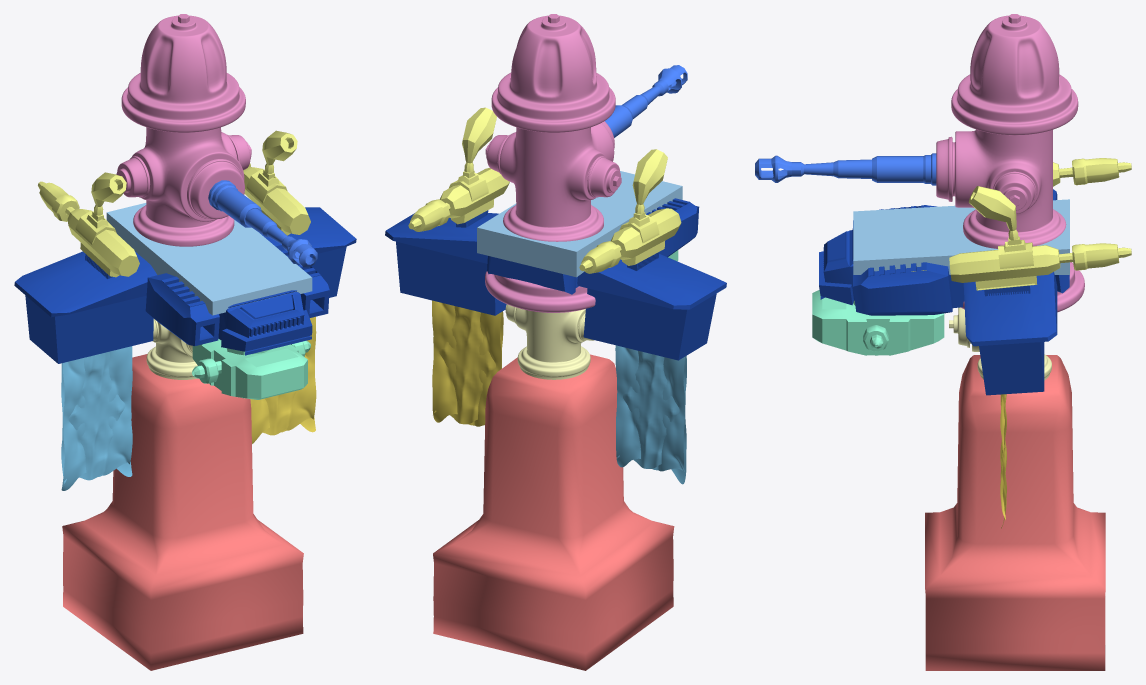
Rendered from WaterLaser.fbx.
3 views of the same model, side by side, from view 1: azimuth 30°, elevation 25°; view 2: azimuth 150°, elevation 25°; view 3: azimuth 270°, elevation 25° (orthographic). The views are drawn at different scales.
Parts seen in each view (by area): view 1: Cube.006, Mech_F_432, hydrant.002, Cube.007, Mech_F_432.001, Mech_F_432.002, Plane.001, Plane.005, Gun.002, Plane.002, hydrant, Plane.006; view 2: Cube.006, hydrant.002, Mech_F_432, Mech_F_432.001, Cube.007, hydrant, Plane.005, Plane.001, Plane.006, Plane.002, Gun.002; view 3: Cube.006, hydrant.002, Mech_F_432, Mech_F_432.001, Cube.007, Mech_F_432.002, Gun.002, hydrant.
Part boxes in pixels (left/top/right/bottom): Cube.006: left=62, top=354, right=303, bottom=670; Mech_F_432: left=14, top=207, right=356, bottom=363; hydrant.002: left=116, top=14, right=251, bottom=246; Cube.007: left=106, top=203, right=312, bottom=315; Mech_F_432.001: left=38, top=130, right=310, bottom=277; Mech_F_432.002: left=192, top=339, right=310, bottom=399; Plane.001: left=61, top=346, right=132, bottom=490; Plane.005: left=61, top=351, right=132, bottom=483; Gun.002: left=208, top=180, right=317, bottom=267; Plane.002: left=250, top=316, right=316, bottom=443; hydrant: left=146, top=319, right=197, bottom=379; Plane.006: left=263, top=355, right=315, bottom=435; Cube.006: left=433, top=354, right=674, bottom=670; hydrant.002: left=485, top=14, right=621, bottom=312; Mech_F_432: left=385, top=198, right=726, bottom=360; Mech_F_432.001: left=408, top=107, right=681, bottom=273; Cube.007: left=477, top=171, right=682, bottom=277; hydrant: left=505, top=304, right=594, bottom=379; Plane.005: left=615, top=345, right=684, bottom=471; Plane.001: left=616, top=351, right=686, bottom=484; Plane.006: left=432, top=300, right=501, bottom=426; Plane.002: left=433, top=306, right=503, bottom=424; Gun.002: left=605, top=65, right=687, bottom=137; Cube.006: left=925, top=355, right=1105, bottom=670; hydrant.002: left=936, top=14, right=1084, bottom=312; Mech_F_432: left=819, top=189, right=1069, bottom=395; Mech_F_432.001: left=911, top=158, right=1131, bottom=290; Cube.007: left=853, top=199, right=1069, bottom=274; Mech_F_432.002: left=812, top=290, right=944, bottom=355; Gun.002: left=755, top=153, right=936, bottom=185; hydrant: left=949, top=307, right=1051, bottom=380.
Bounding box in the file's own units: 6.12 × 11.59 × 6.41.
